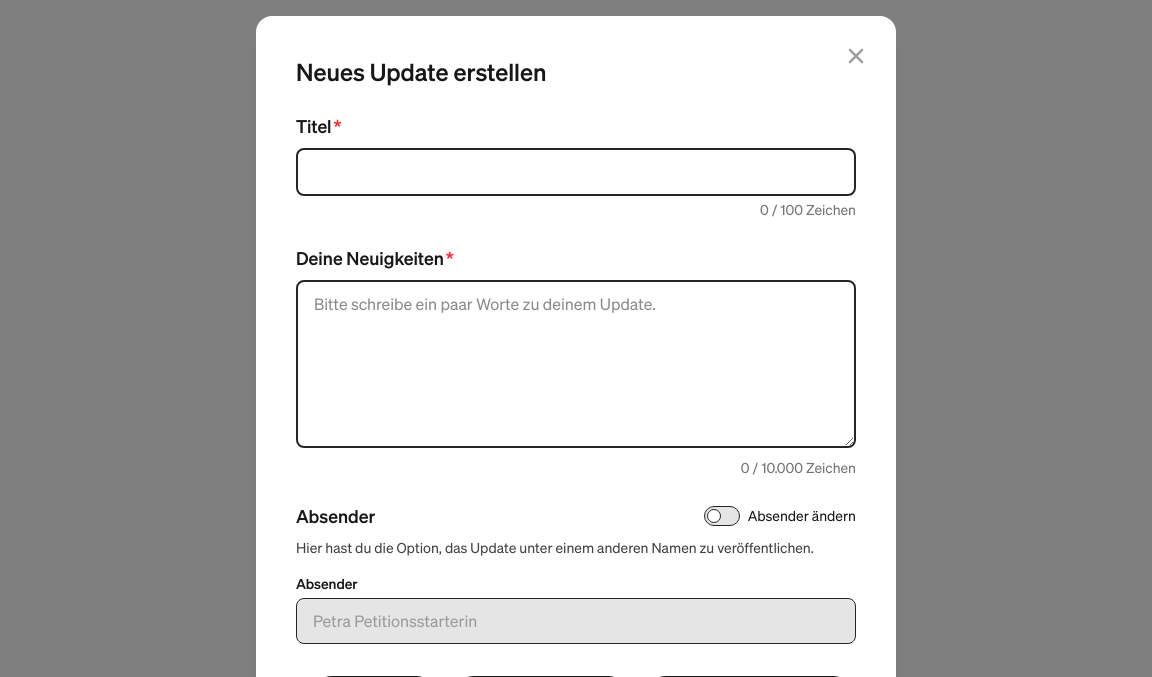
it: Update Modal › Character counters › updates the title character counter as the user types
Type "Hallo" into the field labelled "Titel*" at (576, 172), box [296, 148, 856, 196]
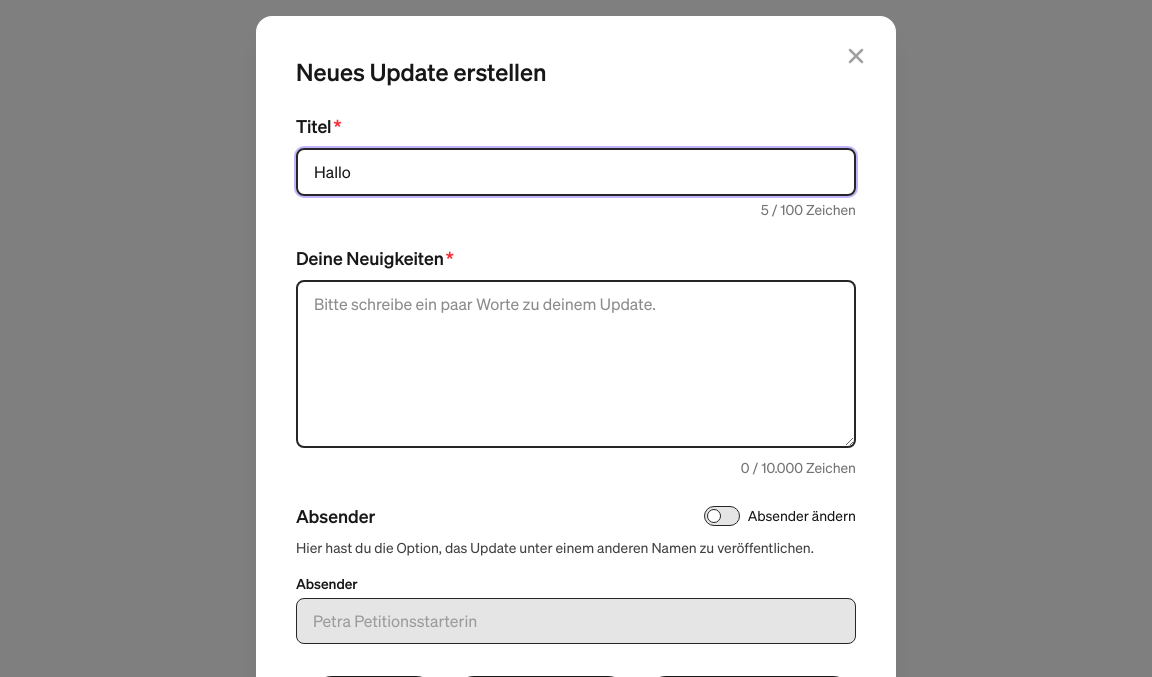
Check: the text "5 / 100 Zeichen" is shown, box [753, 200, 856, 220]
